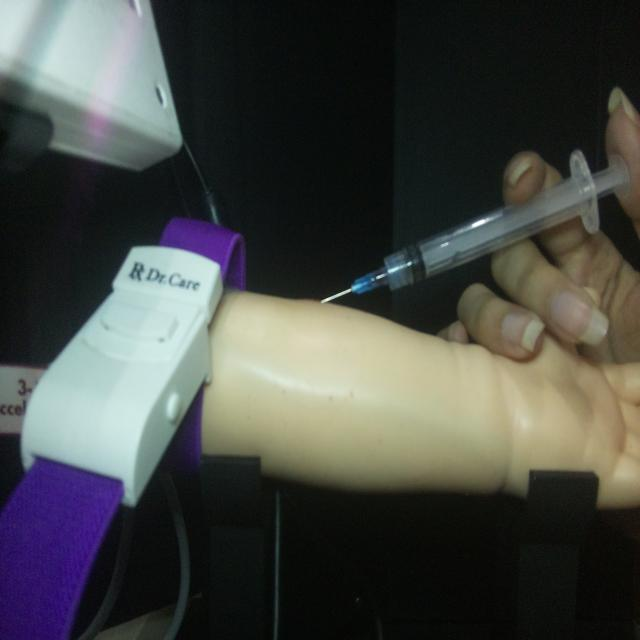15 degrees: (318, 146, 630, 307)
